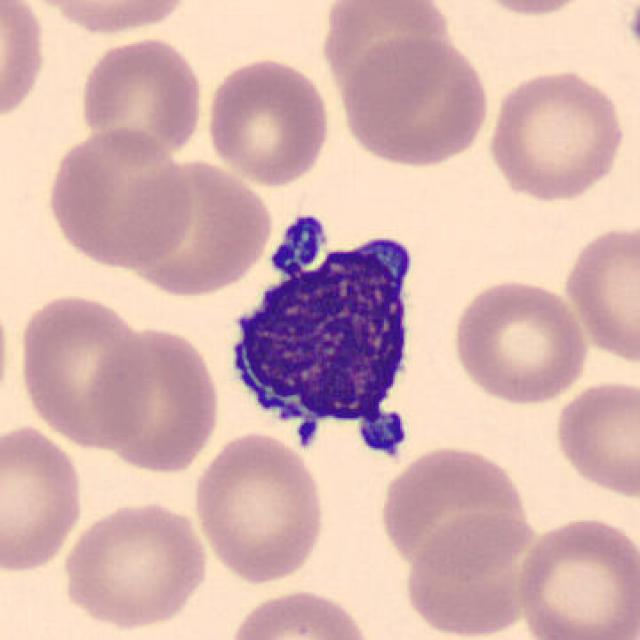Lymphocyte: (215, 212, 427, 470)
Platelets: (359, 409, 411, 460)
RBC: (14, 289, 158, 451), (117, 153, 274, 300), (43, 125, 197, 272), (188, 429, 329, 587), (336, 34, 492, 170), (377, 441, 535, 575), (58, 497, 212, 631), (91, 323, 224, 476), (396, 508, 550, 640), (483, 65, 628, 205), (448, 274, 592, 408), (202, 53, 332, 189), (76, 33, 206, 164), (512, 511, 638, 640), (315, 2, 455, 111), (0, 420, 87, 574), (558, 220, 638, 367), (550, 376, 638, 502), (222, 585, 377, 640), (25, 0, 195, 37), (0, 0, 48, 129), (461, 0, 606, 18), (0, 283, 12, 430)
